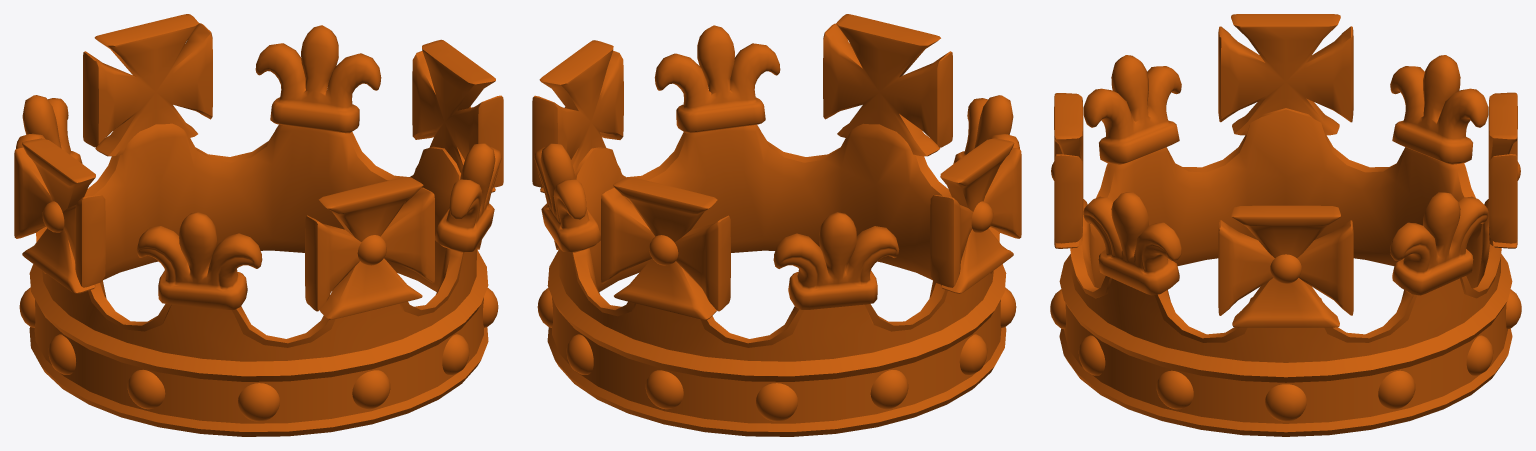
Rendered from Kings_Crown.fbx.
The picture shows the model from 3 angles, left to right: view 1: azimuth 30°, elevation 25°; view 2: azimuth 150°, elevation 25°; view 3: azimuth 270°, elevation 25°; orthographic projection.
Parts seen in each view (by area): view 1: Crown_obj_cleaner_materialmerger_gles; view 2: Crown_obj_cleaner_materialmerger_gles; view 3: Crown_obj_cleaner_materialmerger_gles.
Part boxes in pixels (bbox=[...]): Crown_obj_cleaner_materialmerger_gles: bbox=[14, 14, 503, 436]; Crown_obj_cleaner_materialmerger_gles: bbox=[532, 14, 1021, 436]; Crown_obj_cleaner_materialmerger_gles: bbox=[1050, 14, 1521, 436].
Size of the model in its own units: 51.07 by 26.36 by 49.45.
